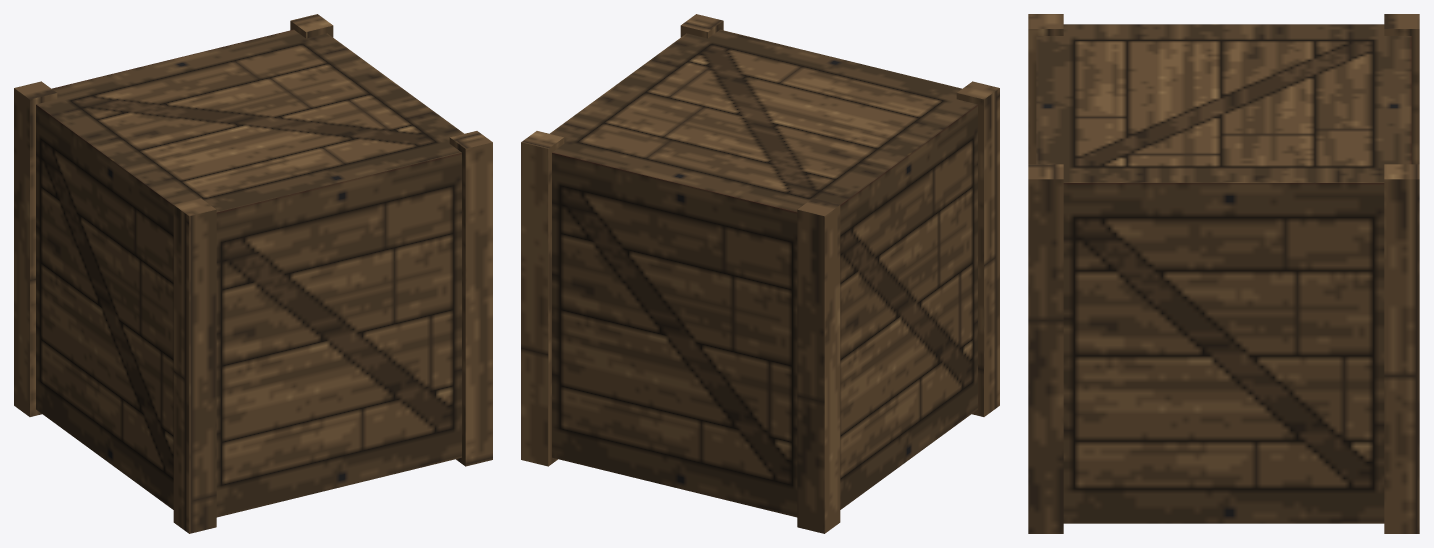
The model's file is Story_Crate.fbx.
The picture shows the model from 3 angles, left to right: view 1: azimuth 30°, elevation 25°; view 2: azimuth 150°, elevation 25°; view 3: azimuth 270°, elevation 25°; orthographic projection. The views are drawn at different scales.
Visible parts, largest first — view 1: Story_Crate; view 2: Story_Crate; view 3: Story_Crate.
Part boxes in pixels (x1,y1,x2,y2): Story_Crate: (14, 14, 492, 533); Story_Crate: (521, 14, 999, 533); Story_Crate: (1028, 14, 1419, 533).
Bounding box in the file's own units: 1 × 1 × 1.
